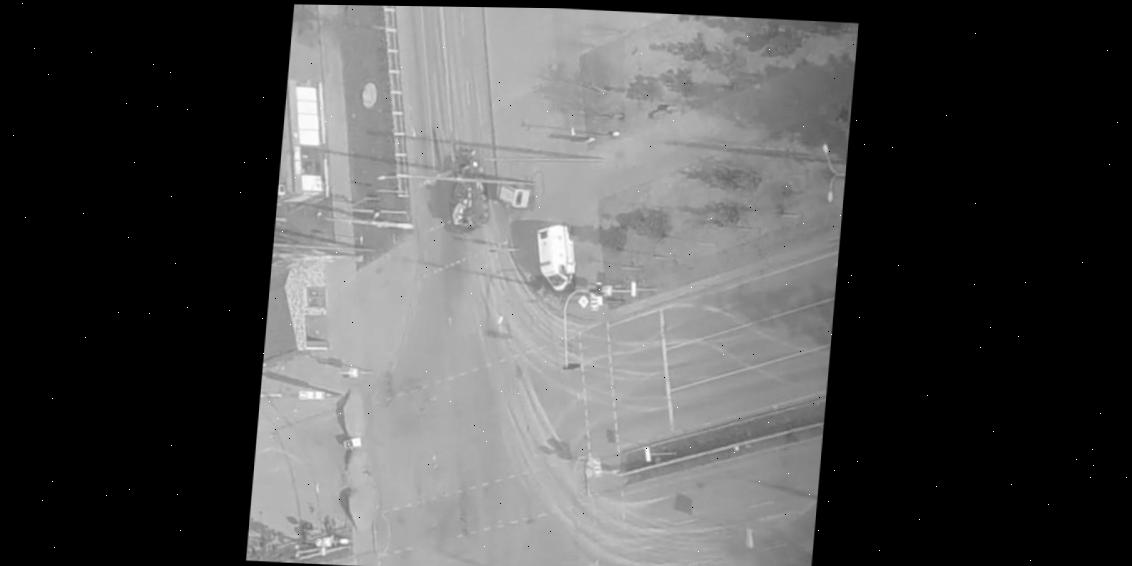tank: (438, 131, 496, 229)
